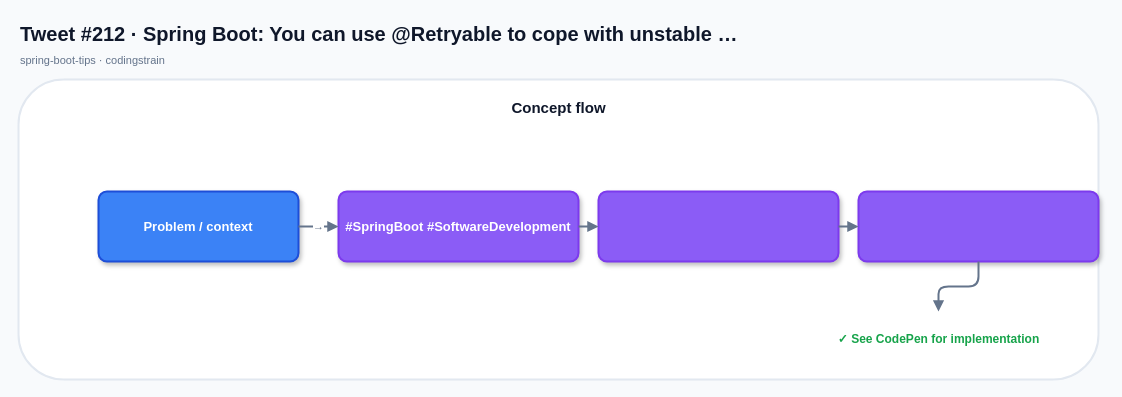
The diagram is 1122 pixels wide and 397 high, and some of its shapes have lost their labels. Here are the shapes that lost their labels. From the top down, the centre of each, then its label:
At point (719, 227): "Runnable sample: `spring-boot-tips`".
At point (979, 227): "Architecture diagram + Carbon CodePen below".
